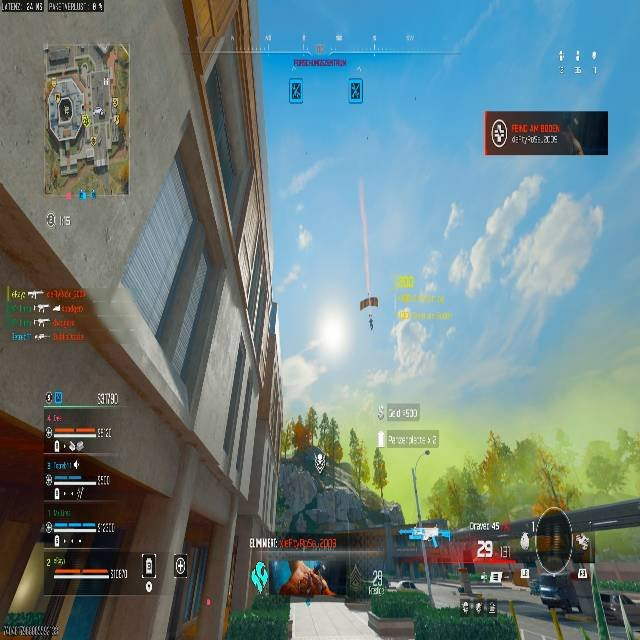player: (519, 506, 590, 640), (301, 570, 316, 607)
